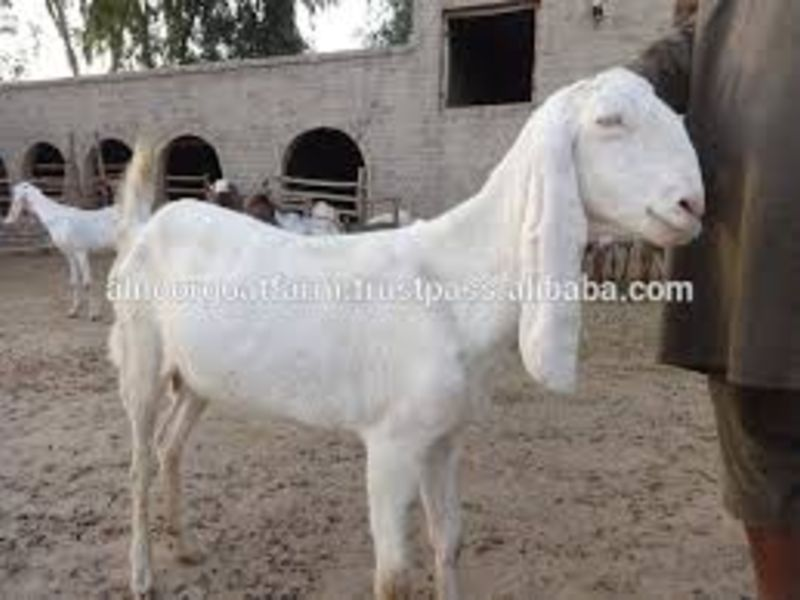goat: (93, 54, 723, 600)
